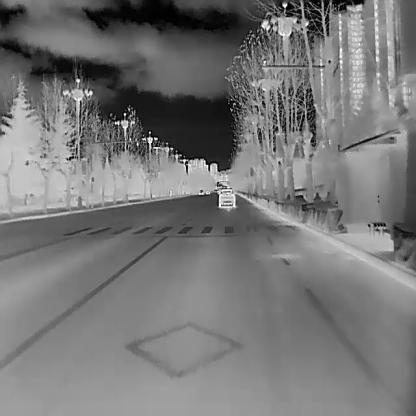car: (218, 189, 234, 207), (198, 189, 203, 195), (205, 190, 210, 194)
